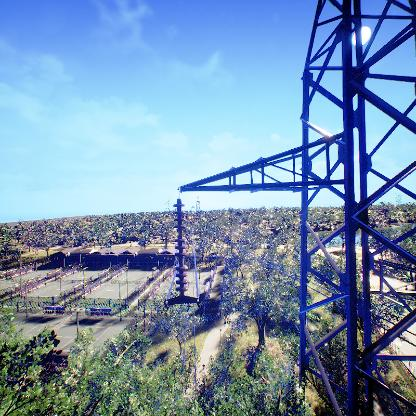insulator: (170, 200, 189, 296)
